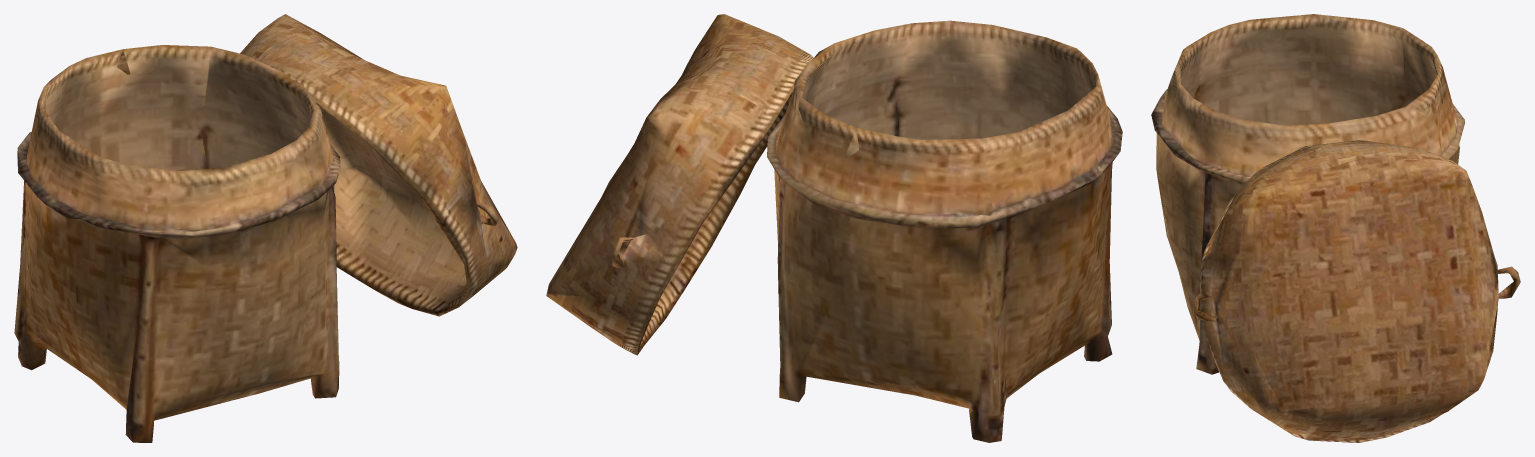
The model's file is wicker_basket_02.glb.
The picture shows the model from 3 angles, left to right: view 1: azimuth 30°, elevation 25°; view 2: azimuth 150°, elevation 25°; view 3: azimuth 270°, elevation 25°; orthographic projection. The views are drawn at different scales.
Parts seen in each view (by area): view 1: wicker_basket_02_base; view 2: wicker_basket_02_base; view 3: wicker_basket_02_base.
Boxes of the visible parts, left/top/right/bottom form: wicker_basket_02_base: left=14, top=14, right=517, bottom=442; wicker_basket_02_base: left=546, top=14, right=1122, bottom=442; wicker_basket_02_base: left=1151, top=14, right=1520, bottom=442.
Bounding box in the file's own units: 0.3469 × 0.2004 × 0.2545.
Materials: 1 (1 with a texture image).
